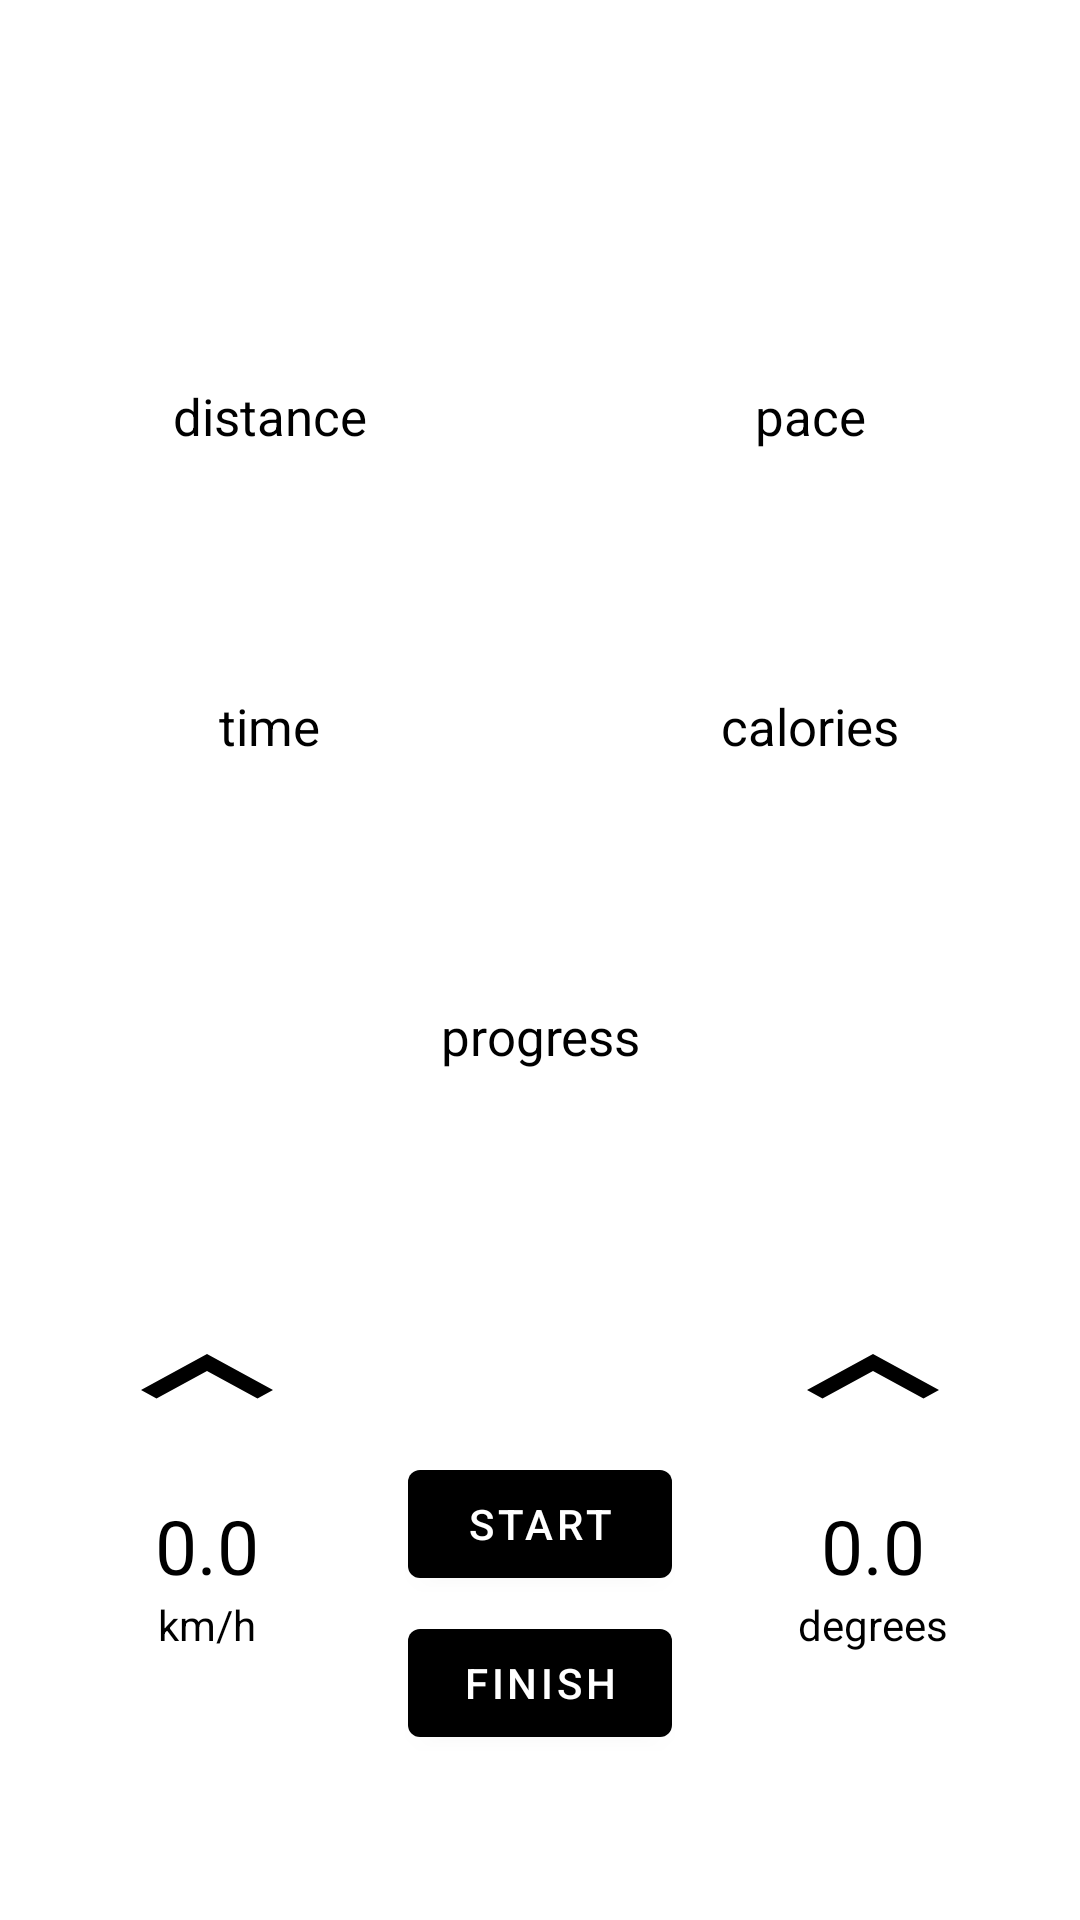

Where icons sit on this 1080×1920 app screen, as (x1, y1, x2, y2):
keyboard arrow up: (141, 1354, 273, 1399), (807, 1354, 939, 1399)
